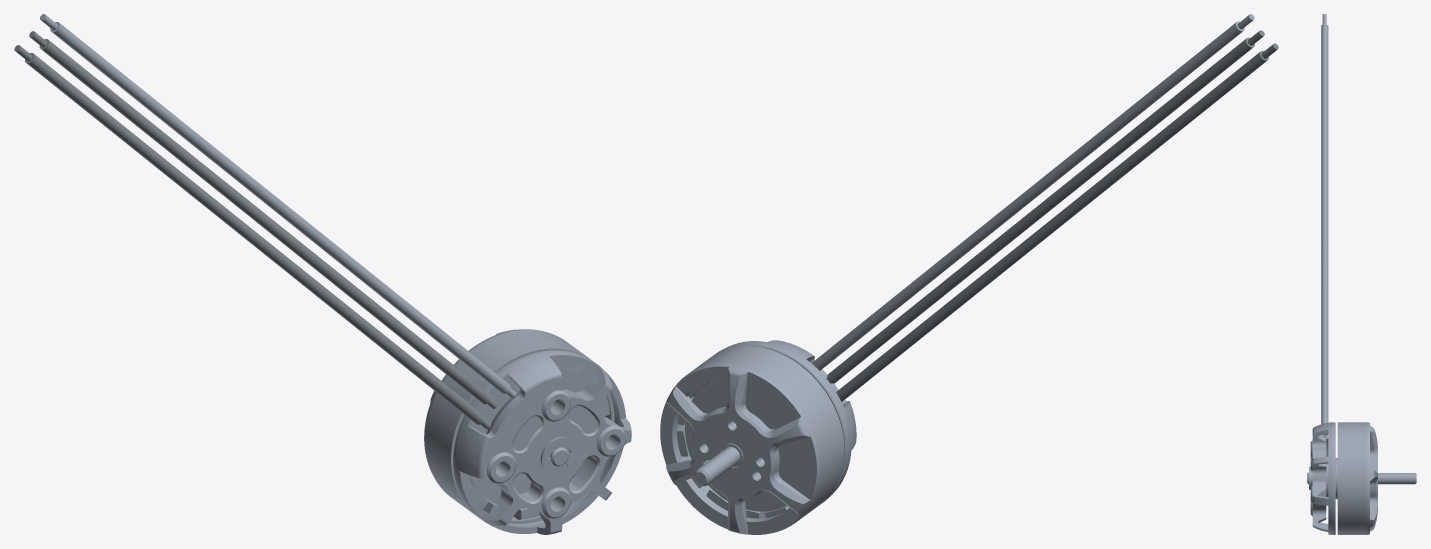
The picture shows the model from 3 angles, left to right: view 1: azimuth 30°, elevation 25°; view 2: azimuth 150°, elevation 25°; view 3: azimuth 270°, elevation 25°; orthographic projection. The views are drawn at different scales.
Parts seen in each view (by area): view 1: SNAIL_2305_BRUSHLESS_DC_MOTOR_A, SNAIL_2305_BRUSHLESS_DC_MOTOR_A002, SNAIL_2305_BRUSHLESS_DC_MOTOR_A001; view 2: SNAIL_2305_BRUSHLESS_DC_MOTOR_A, SNAIL_2305_BRUSHLESS_DC_MOTOR_A002, SNAIL_2305_BRUSHLESS_DC_MOTOR_A001; view 3: SNAIL_2305_BRUSHLESS_DC_MOTOR_A.
Part boxes in pixels (<box>): SNAIL_2305_BRUSHLESS_DC_MOTOR_A: <box>40,14,631,534</box>; SNAIL_2305_BRUSHLESS_DC_MOTOR_A002: <box>14,45,491,429</box>; SNAIL_2305_BRUSHLESS_DC_MOTOR_A001: <box>29,31,497,408</box>; SNAIL_2305_BRUSHLESS_DC_MOTOR_A: <box>660,14,1254,534</box>; SNAIL_2305_BRUSHLESS_DC_MOTOR_A002: <box>836,43,1278,401</box>; SNAIL_2305_BRUSHLESS_DC_MOTOR_A001: <box>826,30,1264,383</box>; SNAIL_2305_BRUSHLESS_DC_MOTOR_A: <box>1307,14,1416,534</box>.
Size of the model in its own units: 0.1062 by 0.106 by 0.0282.
